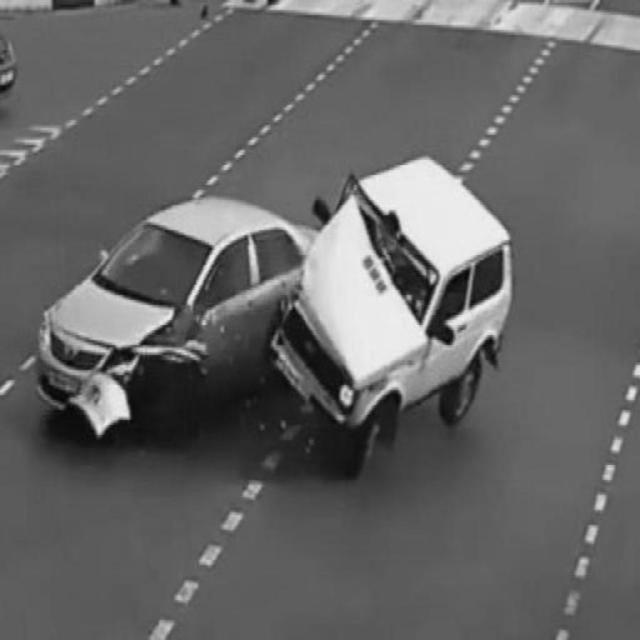accident: (56, 152, 507, 450)
